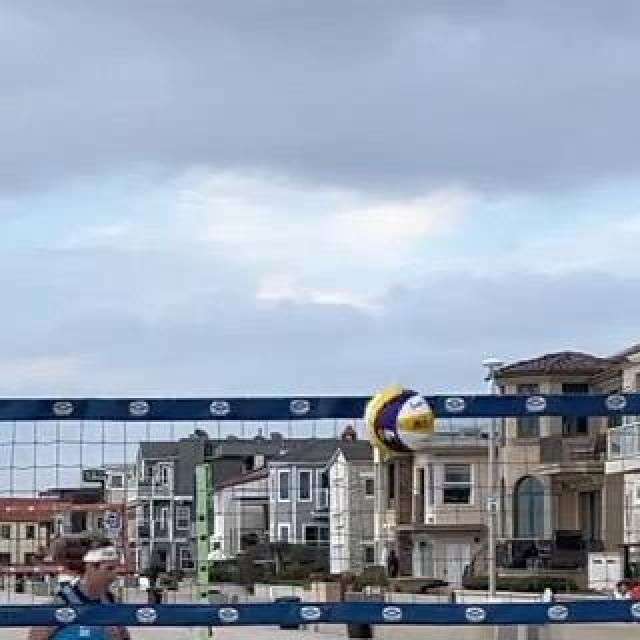volleyball: (365, 389, 435, 455)
